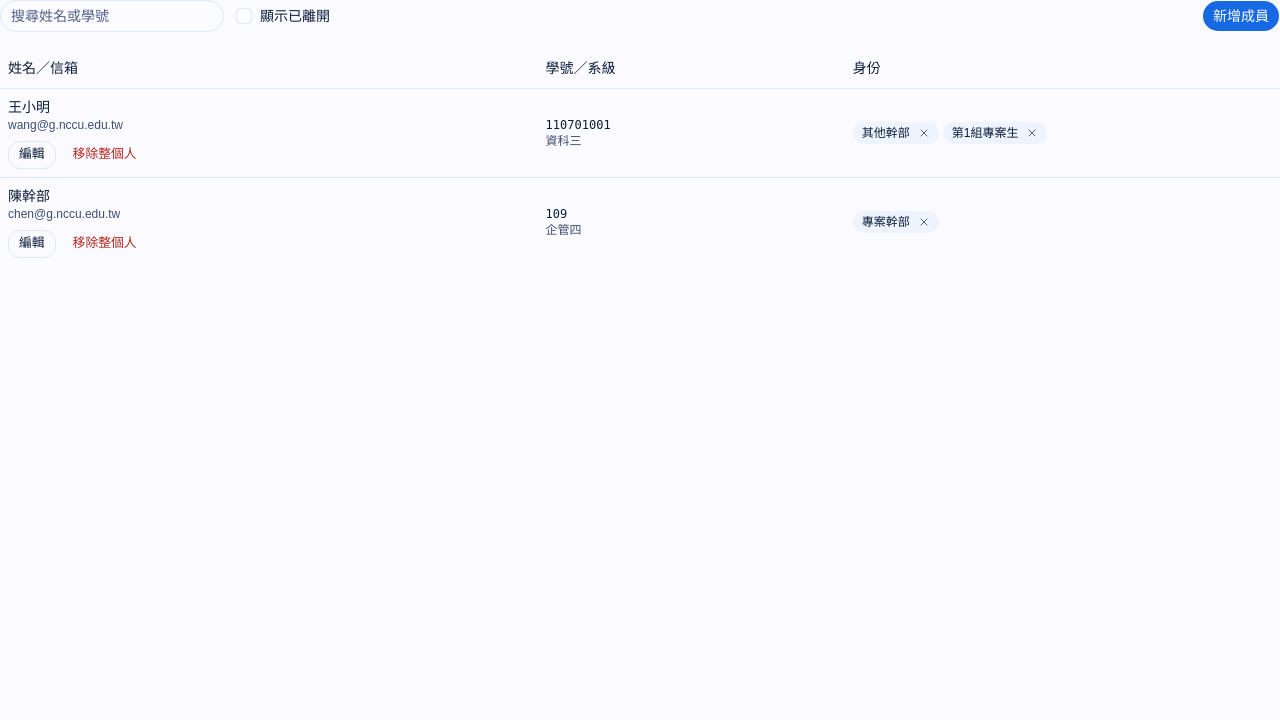
Test: MembersSection（管理員頁成員區塊） › 每個還在的身份有移除按鈕；已離開的身份沒有；按下先跳確認視窗寫出影響，確認才呼叫
This screenshot has width=1280, height=720.
Click the checkbox named "顯示已離開" at (244, 16), box [236,8,252,24]
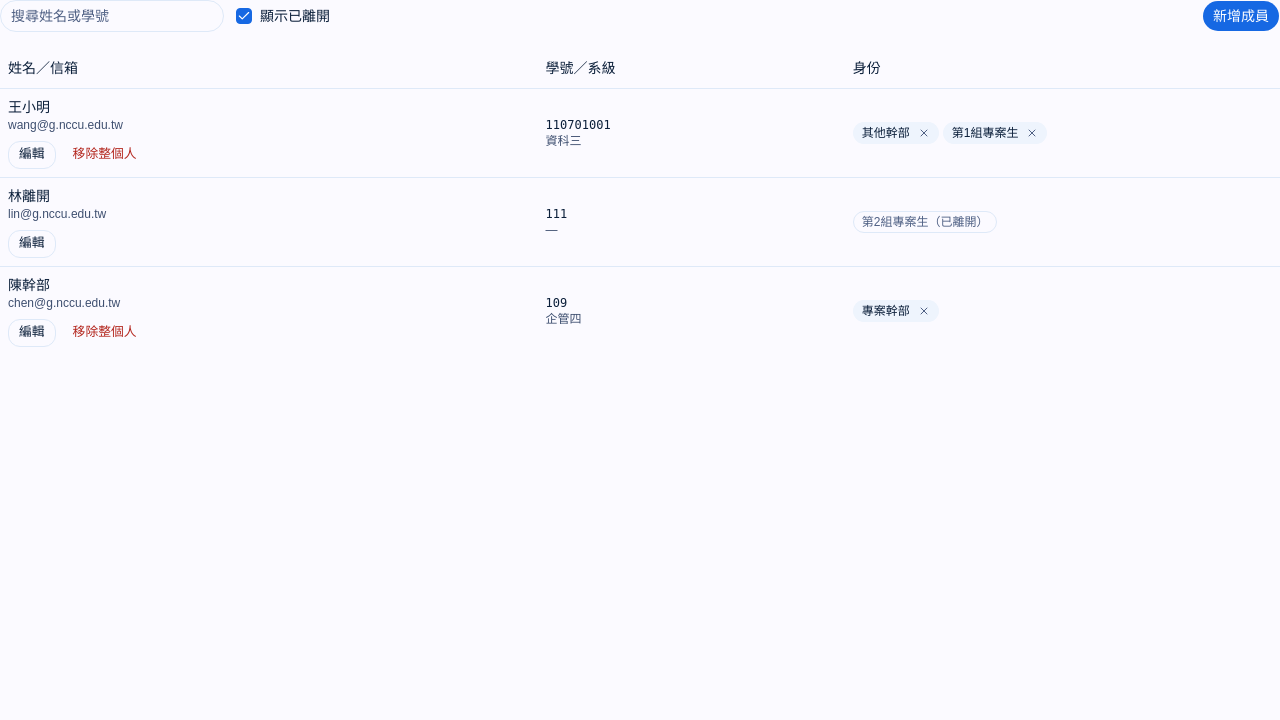
Click the button named "移除王小明的第1組專案生身份" at (1032, 132), box [1020,120,1044,144]
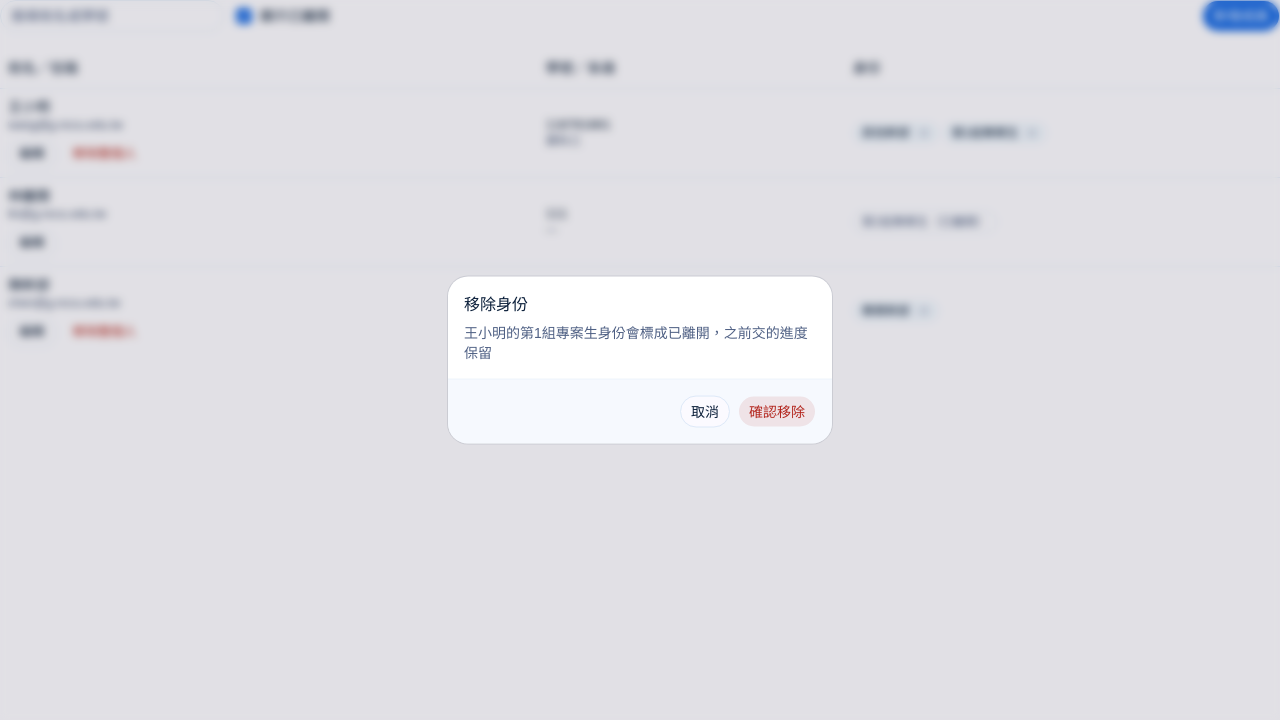
Expected: the text "王小明的第1組專案生身份會標成已離開，之前交的進度保留" is shown, [464,322,816,362]
Click the button "確認移除" at (777, 412), box [738,396,816,428]
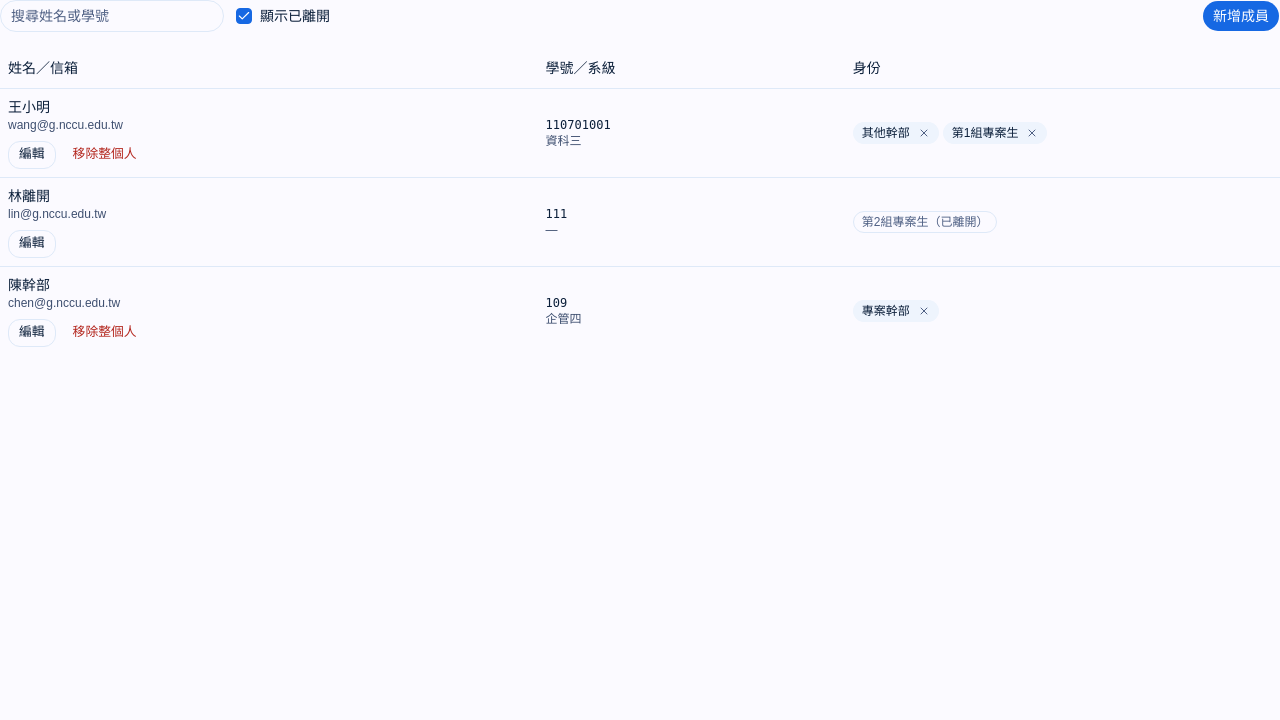
Expected: the dialog is gone
